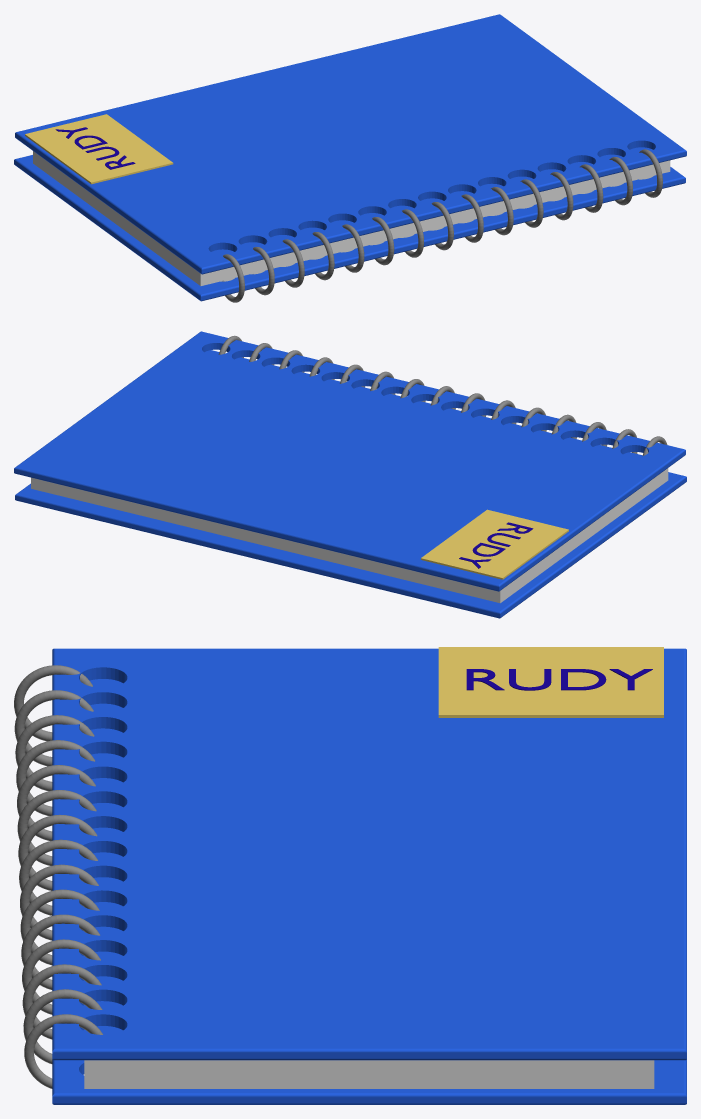
The model's file is cuaderno.fbx.
3 views of the same model, one above another, from view 1: azimuth 30°, elevation 25°; view 2: azimuth 150°, elevation 25°; view 3: azimuth 270°, elevation 25° (orthographic). The views are drawn at different scales.
Visible parts, largest first — view 1: cuaderno, Text; view 2: cuaderno, Text; view 3: cuaderno, Text.
Part boxes in pixels (x1=…): cuaderno: x1=14, y1=14, x2=686, y2=302; Text: x1=55, y1=127, x2=135, y2=169; cuaderno: x1=14, y1=331, x2=686, y2=618; Text: x1=459, y1=522, x2=533, y2=568; cuaderno: x1=14, y1=647, x2=686, y2=1104; Text: x1=466, y1=669, x2=652, y2=690.
Bounding box in the file's own units: 1817 × 160 × 1282.
